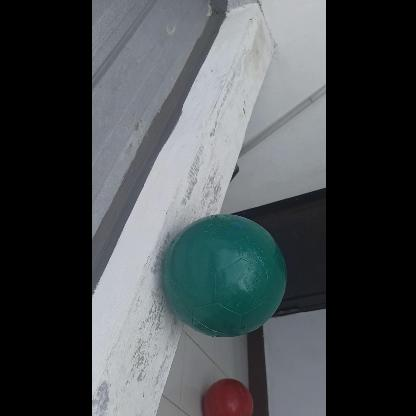green_ball: (163, 213, 287, 337)
